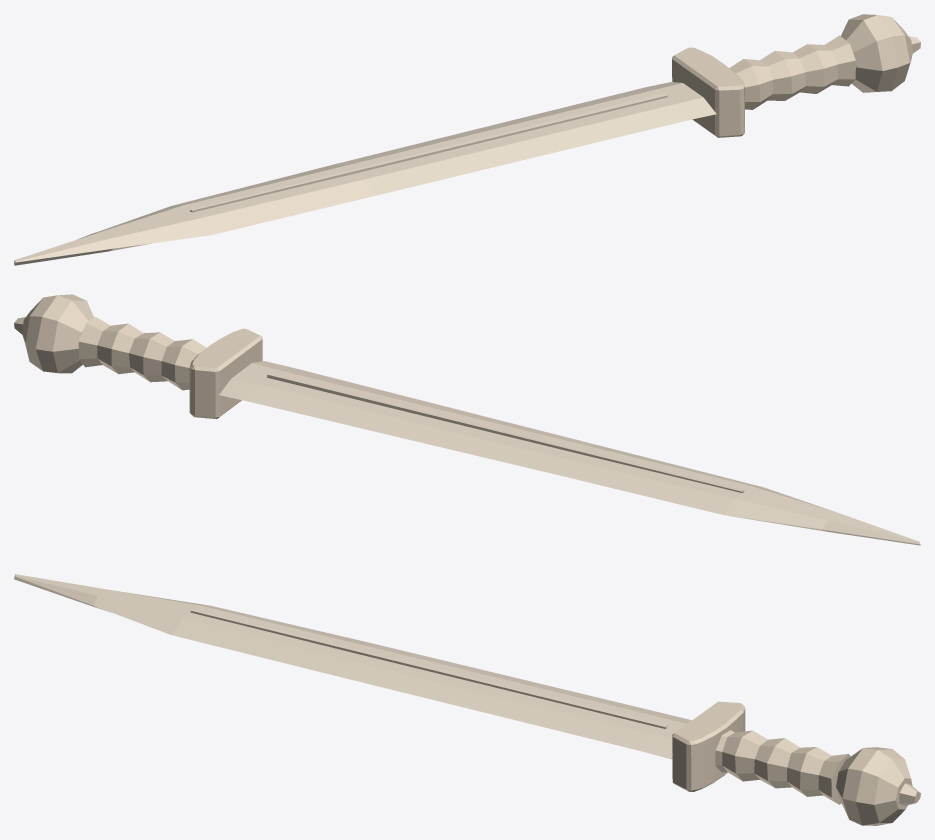
File: gladius.glb
3 renders of one model, top to bottom at view 1: azimuth 30°, elevation 25°; view 2: azimuth 150°, elevation 25°; view 3: azimuth 330°, elevation 25°, orthographic.
Visible parts, largest first — view 1: blade, grip, pommel, guard, blade_ridge; view 2: blade, grip, pommel, guard, blade_ridge; view 3: blade, grip, pommel, guard, blade_ridge.
Part boxes in pixels (x1,y1,x2,y2): blade: (14,82,716,265); grip: (729,35,855,109); pommel: (841,14,912,92); guard: (672,47,744,137); blade_ridge: (190,92,667,212); blade: (219,361,920,545); grip: (78,317,206,390); pommel: (22,294,93,373); guard: (189,328,262,418); blade_ridge: (267,374,744,493); blade: (14,574,691,759); grip: (715,730,850,804); pommel: (836,747,912,825); guard: (672,701,745,791); blade_ridge: (190,609,667,729).
Size of the model in its own units: 0.6655 by 0.0534 by 0.0693.
